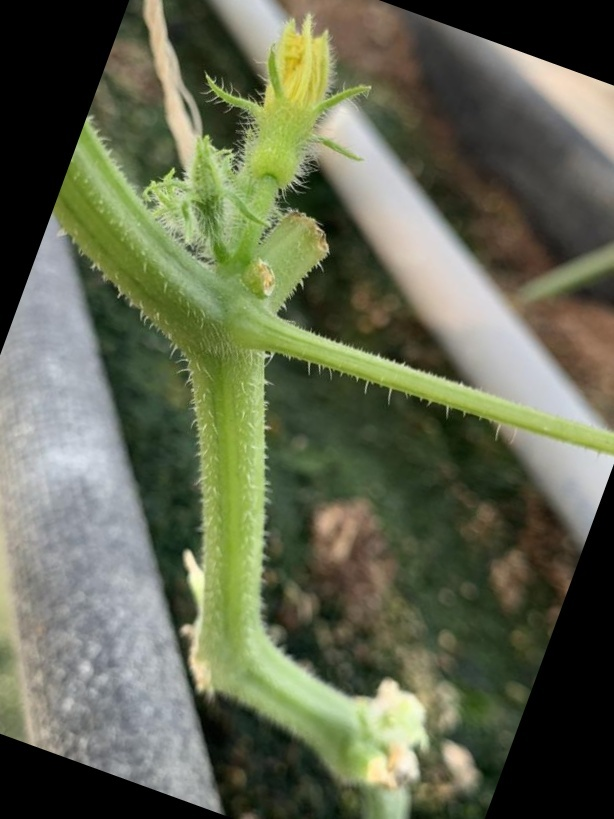bud: (216, 4, 367, 199)
